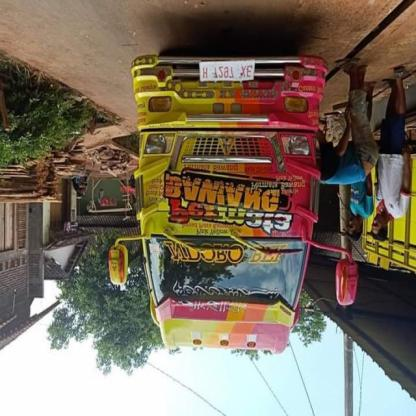truck: (107, 32, 360, 357)
